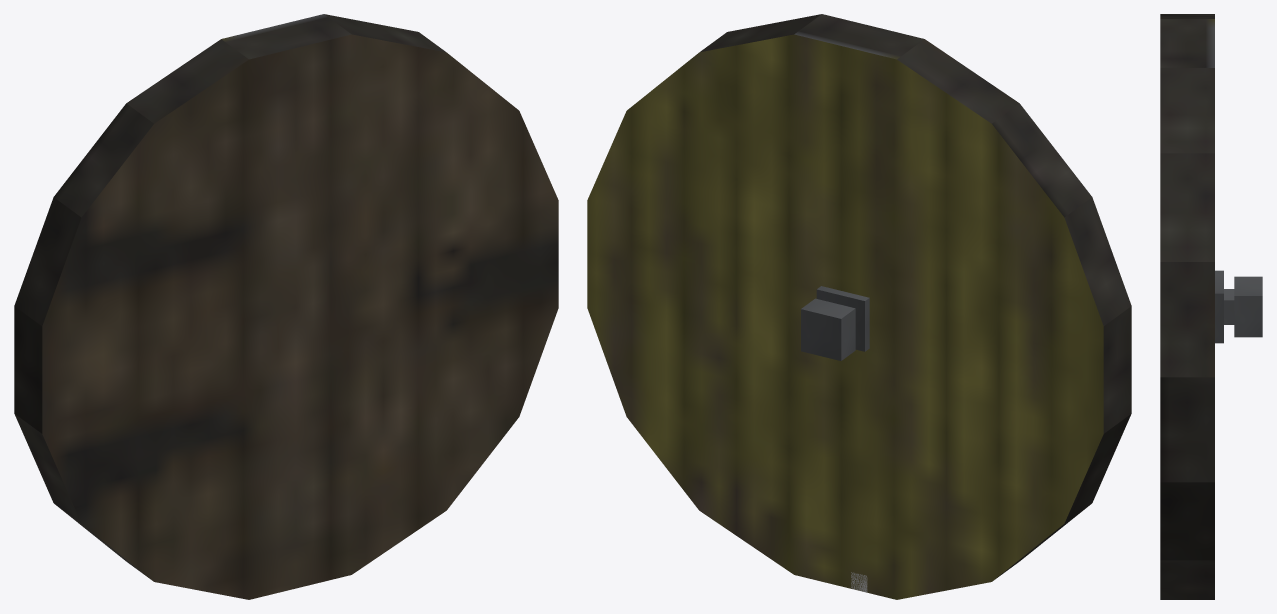
The model's file is hobbit_door_2x2_yellow.obj.
3 renders of one model, left to right at view 1: azimuth 30°, elevation 25°; view 2: azimuth 150°, elevation 25°; view 3: azimuth 270°, elevation 25°, orthographic. The views are drawn at different scales.
Visible parts, largest first — view 1: cylinder; view 2: cylinder, cube; view 3: cylinder, cube.
Boxes of the visible parts, x1,y1,x2,y2 form: cylinder: (14,14,558,599); cylinder: (587,14,1131,599); cube: (801,286,869,592); cylinder: (1160,14,1214,599); cube: (1215,270,1262,343).
Bounding box in the file's own units: 2 × 2 × 0.3516.
